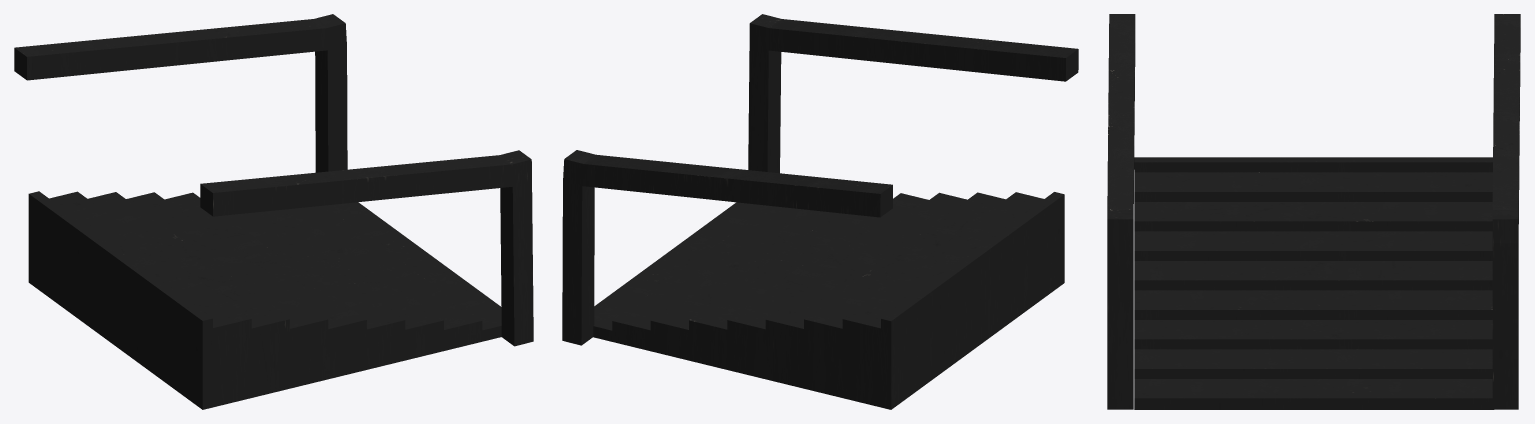
File: RoofStair1.fbx
3 views of the same model, side by side, from view 1: azimuth 30°, elevation 25°; view 2: azimuth 150°, elevation 25°; view 3: azimuth 270°, elevation 25° (orthographic). The views are drawn at different scales.
Visible parts, largest first — view 1: Cube.011; view 2: Cube.011; view 3: Cube.011.
Boxes of the visible parts, bbox=[...] form: Cube.011: bbox=[14, 14, 533, 409]; Cube.011: bbox=[562, 14, 1078, 409]; Cube.011: bbox=[1107, 14, 1520, 409].
Size of the model in its own units: 104 by 70.16 by 112.
Materials: 1 (1 with a texture image).
